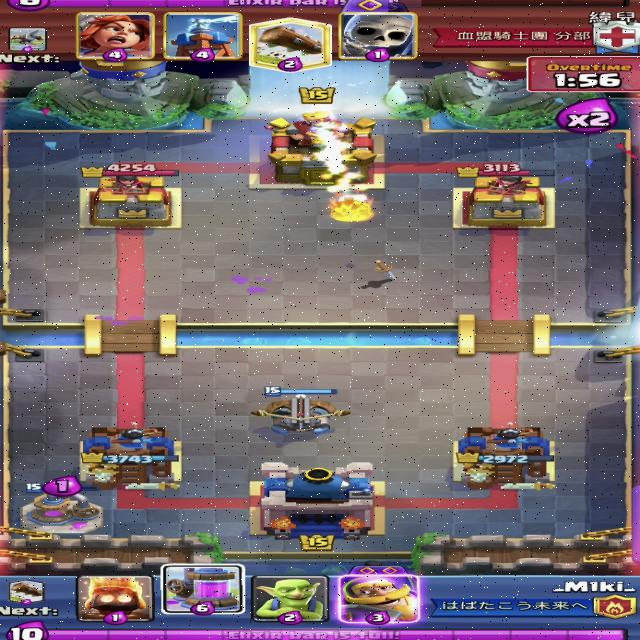Enemy-Fireball: (326, 192, 376, 223)
Player-ElixirPump: (19, 482, 105, 534)
Player-XBow: (252, 386, 353, 434)
